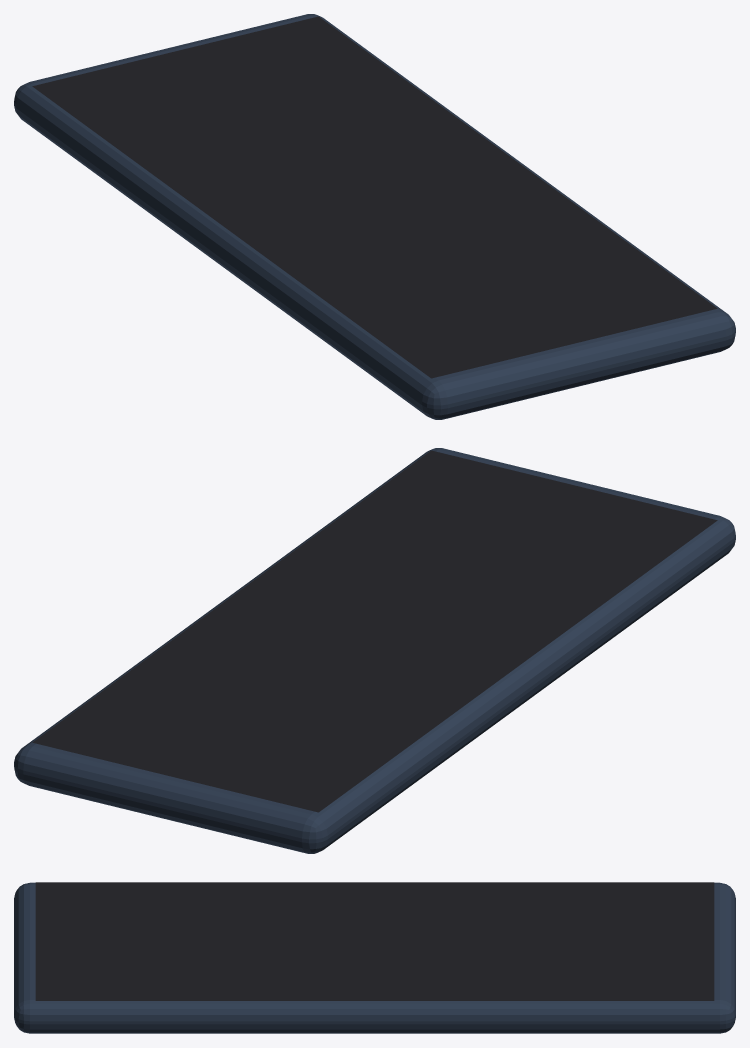
The model's file is tecno-pova-model-424-budget-2024.glb.
3 views of the same model, one above another, from view 1: azimuth 30°, elevation 25°; view 2: azimuth 150°, elevation 25°; view 3: azimuth 270°, elevation 25° (orthographic). The views are drawn at different scales.
Visible parts, largest first — view 1: Phone_Screen, Phone_Body; view 2: Phone_Screen, Phone_Body; view 3: Phone_Screen, Phone_Body.
Boxes of the visible parts, bbox=[...] form: Phone_Screen: bbox=[32, 16, 717, 378]; Phone_Body: bbox=[14, 14, 735, 419]; Phone_Screen: bbox=[32, 450, 717, 812]; Phone_Body: bbox=[14, 448, 735, 853]; Phone_Screen: bbox=[35, 882, 714, 1000]; Phone_Body: bbox=[14, 882, 735, 1033].
Bounding box in the file's own units: 0.0702 × 0.0083 × 0.1658.
